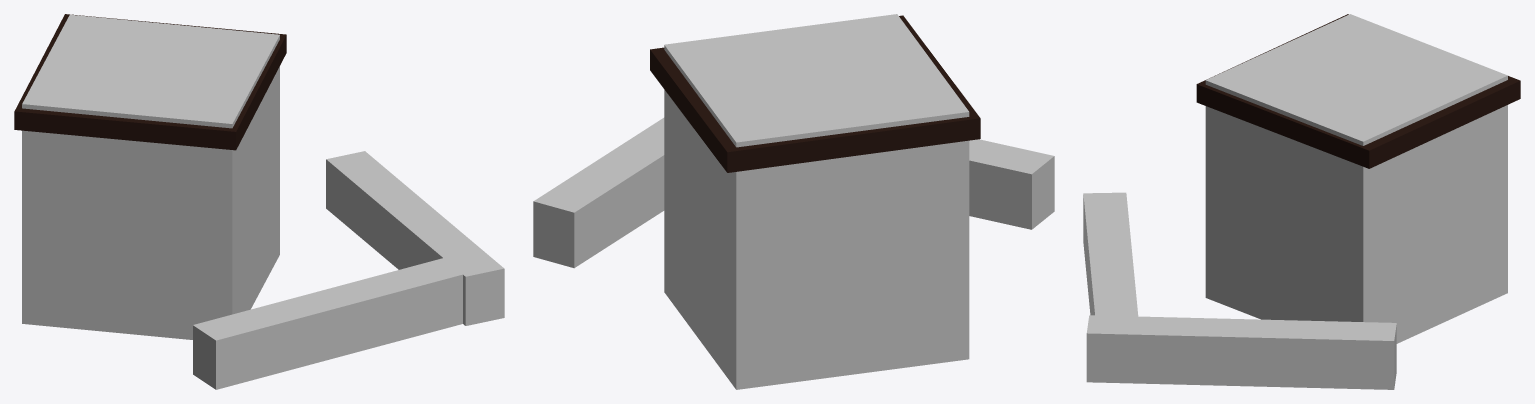
3 renders of one model, left to right at view 1: azimuth 30°, elevation 25°; view 2: azimuth 150°, elevation 25°; view 3: azimuth 270°, elevation 25°, orthographic. The views are drawn at different scales.
Visible parts, largest first — view 1: col-colonly_Cube.003, hut_Cube.002; view 2: col-colonly_Cube.003, hut_Cube.002; view 3: col-colonly_Cube.003, hut_Cube.002.
Boxes of the visible parts, box(x1,y1,x2,y2) form: col-colonly_Cube.003: box(22, 14, 504, 389); hut_Cube.002: box(14, 14, 286, 150); col-colonly_Cube.003: box(533, 14, 1054, 389); hut_Cube.002: box(650, 15, 980, 172); col-colonly_Cube.003: box(1083, 14, 1507, 389); hut_Cube.002: box(1196, 14, 1520, 168).
Bounding box in the file's own units: 10.23 × 5.75 × 10.47.
